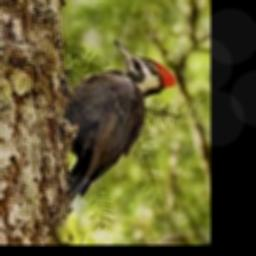Woodpecker: (64, 39, 176, 201)
